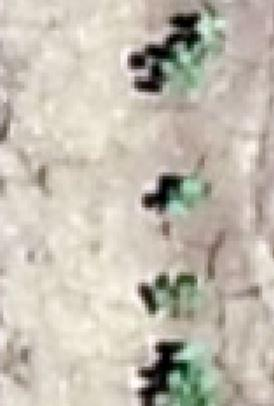cotton: (174, 372, 208, 406), (158, 64, 198, 92), (168, 177, 202, 209), (165, 281, 198, 309), (175, 43, 221, 63), (199, 10, 221, 37), (184, 348, 207, 373)
